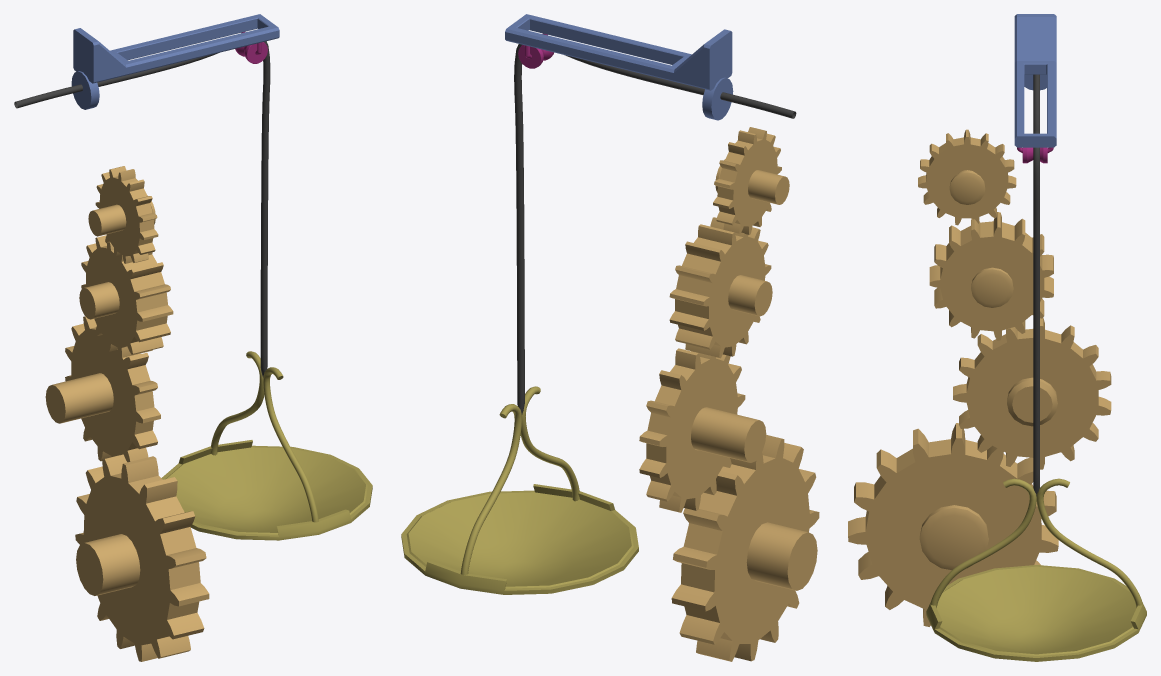
The model's file is balance 1.fbx.
3 views of the same model, side by side, from view 1: azimuth 30°, elevation 25°; view 2: azimuth 150°, elevation 25°; view 3: azimuth 270°, elevation 25° (orthographic). The views are drawn at different scales.
Parts seen in each view (by area): view 1: écrou_1, balance, écrou_2, écrou_3, poutre, écrou_4, corde_1, corde_2_move; view 2: écrou_1, balance, écrou_2, écrou_3, poutre, écrou_4, corde_1, corde_2_move; view 3: écrou_1, balance, écrou_2, écrou_3, écrou_4, poutre, corde_1, corde_2_move.
Part boxes in pixels (box(x1,y1,x2,y2)): écrou_1: box(75, 454, 209, 661); balance: box(161, 351, 372, 540); écrou_2: box(45, 316, 160, 462); écrou_3: box(79, 235, 173, 357); poutre: box(71, 14, 279, 109); écrou_4: box(88, 166, 158, 263); corde_1: box(14, 41, 270, 290); corde_2_move: box(260, 290, 267, 377); écrou_1: box(671, 434, 819, 661); balance: box(401, 386, 638, 594); écrou_2: box(639, 348, 766, 512); écrou_3: box(669, 217, 772, 358); poutre: box(505, 14, 733, 120); écrou_4: box(713, 127, 789, 234); corde_1: box(514, 44, 796, 319); corde_2_move: box(517, 319, 524, 414); écrou_1: box(848, 423, 1058, 626); balance: box(926, 478, 1146, 661); écrou_2: box(953, 317, 1111, 469); écrou_3: box(929, 212, 1053, 340); écrou_4: box(918, 129, 1016, 225); poutre: box(1014, 14, 1056, 147); corde_1: box(1033, 74, 1039, 407); corde_2_move: box(1033, 407, 1039, 496).
Bounding box in the file's own units: 4.51 × 7.41 × 3.35.
